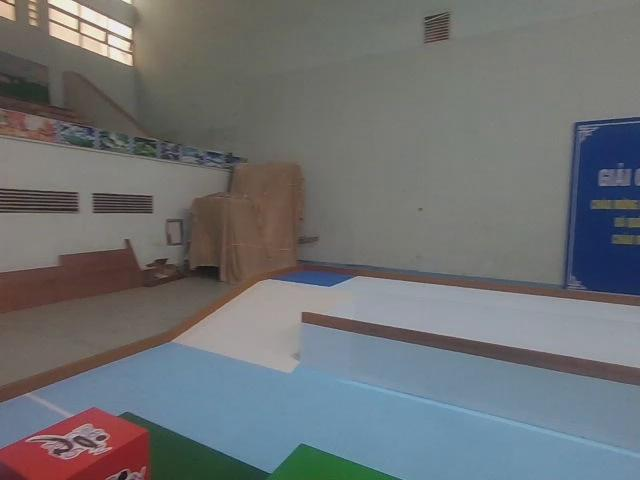R1: (0, 401, 153, 480)
